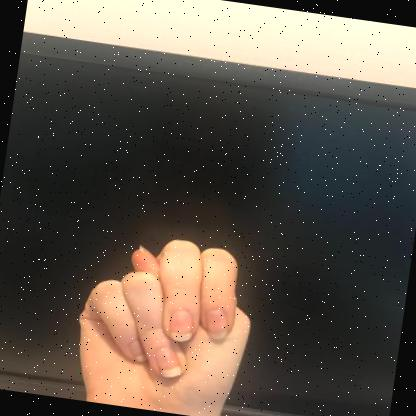N: (79, 238, 253, 416)
